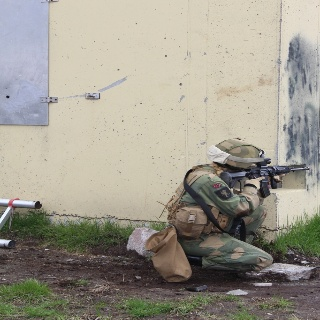rifle: (218, 161, 310, 199)
